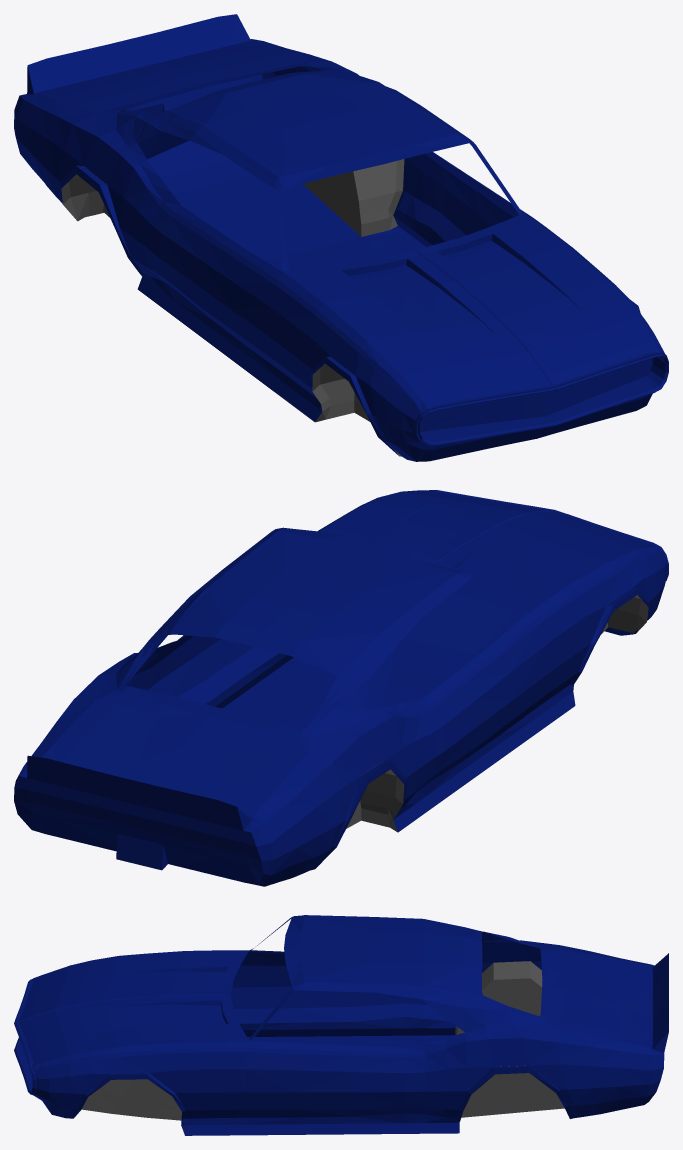
File: Chevrolet_Camaro.obj
3 renders of one model, top to bottom at view 1: azimuth 30°, elevation 25°; view 2: azimuth 150°, elevation 25°; view 3: azimuth 270°, elevation 25°, orthographic. The views are drawn at different scales.
Visible parts, largest first — view 1: CarBody_Plano; view 2: CarBody_Plano; view 3: CarBody_Plano.
Boxes of the visible parts, left/top/right/bottom form: CarBody_Plano: left=14, top=14, right=668, bottom=461; CarBody_Plano: left=14, top=490, right=668, bottom=886; CarBody_Plano: left=14, top=915, right=668, bottom=1135.
Bounding box in the file's own units: 3.92 × 2.33 × 9.85.
